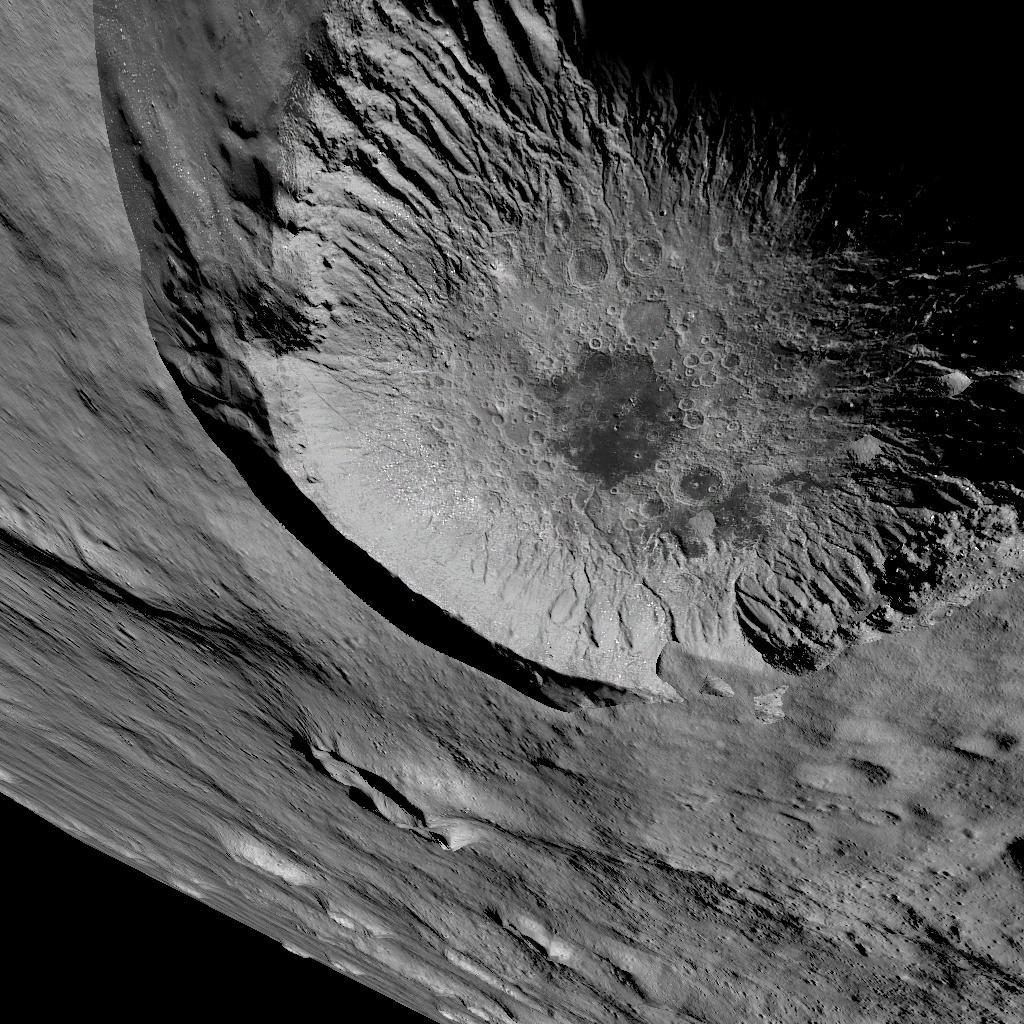Crater: (69, 6, 1024, 724), (279, 736, 449, 856)
Plan surface: (491, 742, 969, 1024)
